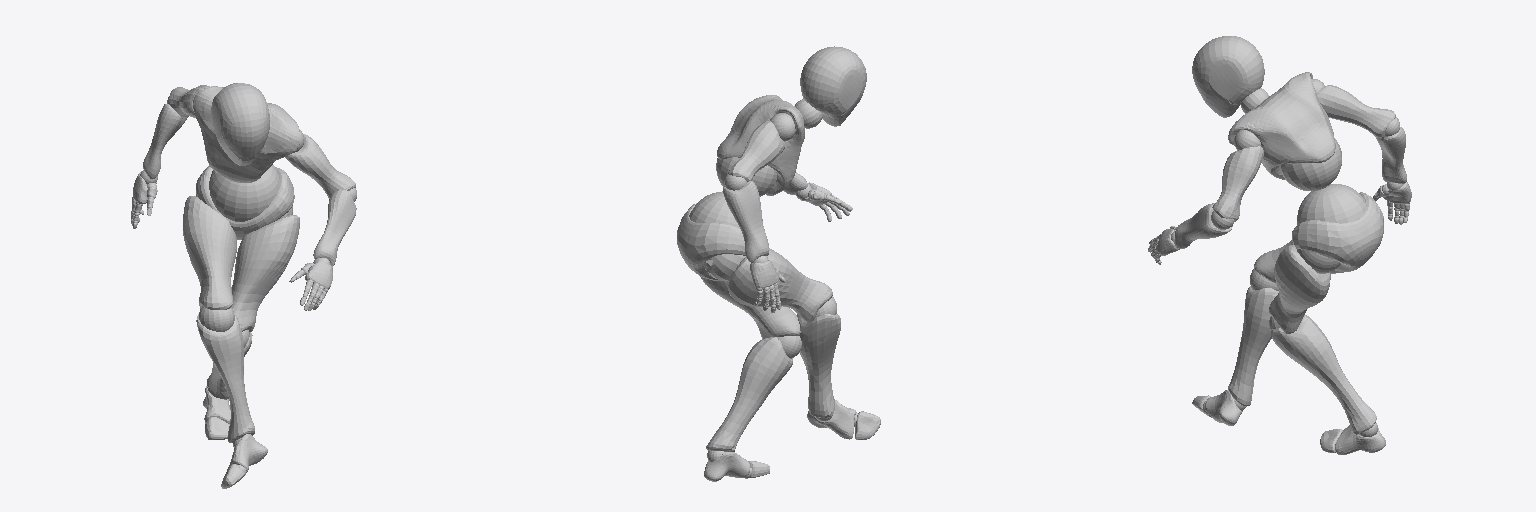
3 renders of one model, left to right at view 1: azimuth 30°, elevation 25°; view 2: azimuth 150°, elevation 25°; view 3: azimuth 270°, elevation 25°, orthographic.
Visible parts, largest first — view 1: Beta_Surface, Beta_Joints; view 2: Beta_Surface, Beta_Joints; view 3: Beta_Surface, Beta_Joints.
Boxes of the visible parts, <box> form: Beta_Surface: <box>131,83,356,488</box>; Beta_Joints: <box>131,97,356,474</box>; Beta_Surface: <box>677,46,880,481</box>; Beta_Joints: <box>689,99,857,478</box>; Beta_Surface: <box>1148,36,1411,454</box>; Beta_Joints: <box>1149,79,1410,436</box>.
Bounding box in the file's own units: 0.5588 × 1.47 × 0.8869.